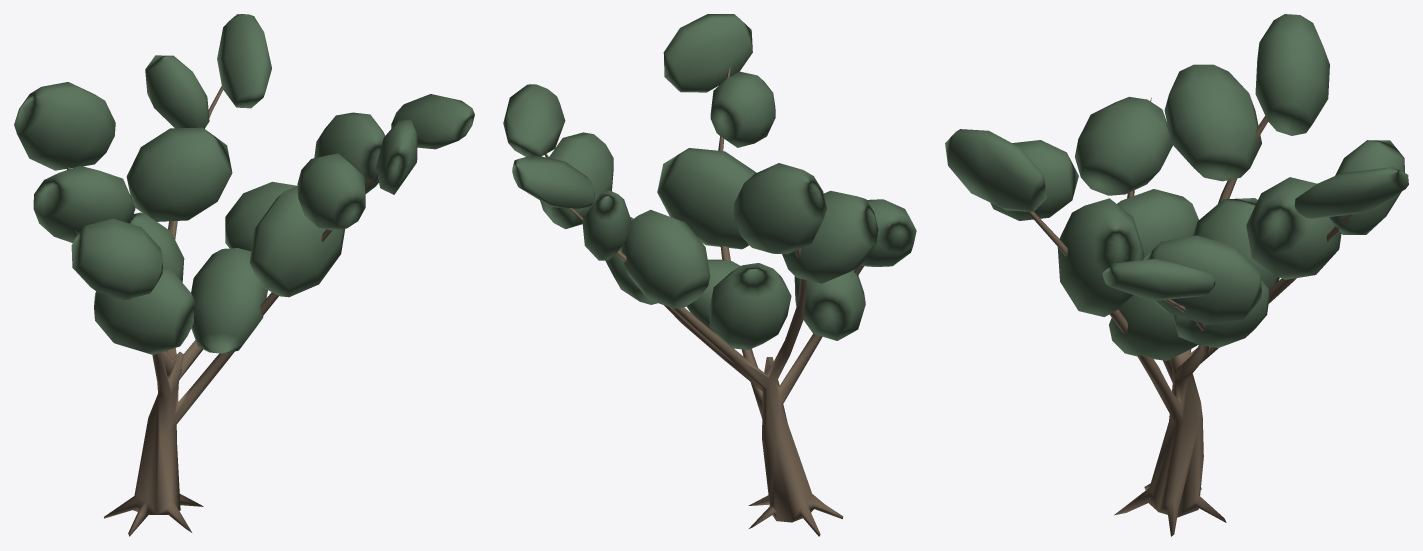
The model's file is Genevrier_2_Niveau2.fbx.
The picture shows the model from 3 angles, left to right: view 1: azimuth 30°, elevation 25°; view 2: azimuth 150°, elevation 25°; view 3: azimuth 270°, elevation 25°; orthographic projection. The views are drawn at different scales.
Visible parts, largest first — view 1: Genevrier_2_Niveau2_Jeu; view 2: Genevrier_2_Niveau2_Jeu; view 3: Genevrier_2_Niveau2_Jeu.
Part boxes in pixels (box(x1,y1,x2,y2)): Genevrier_2_Niveau2_Jeu: box(14, 14, 474, 536); Genevrier_2_Niveau2_Jeu: box(503, 14, 916, 536); Genevrier_2_Niveau2_Jeu: box(945, 14, 1408, 536).
Bounding box in the file's own units: 199 × 196 × 175.
